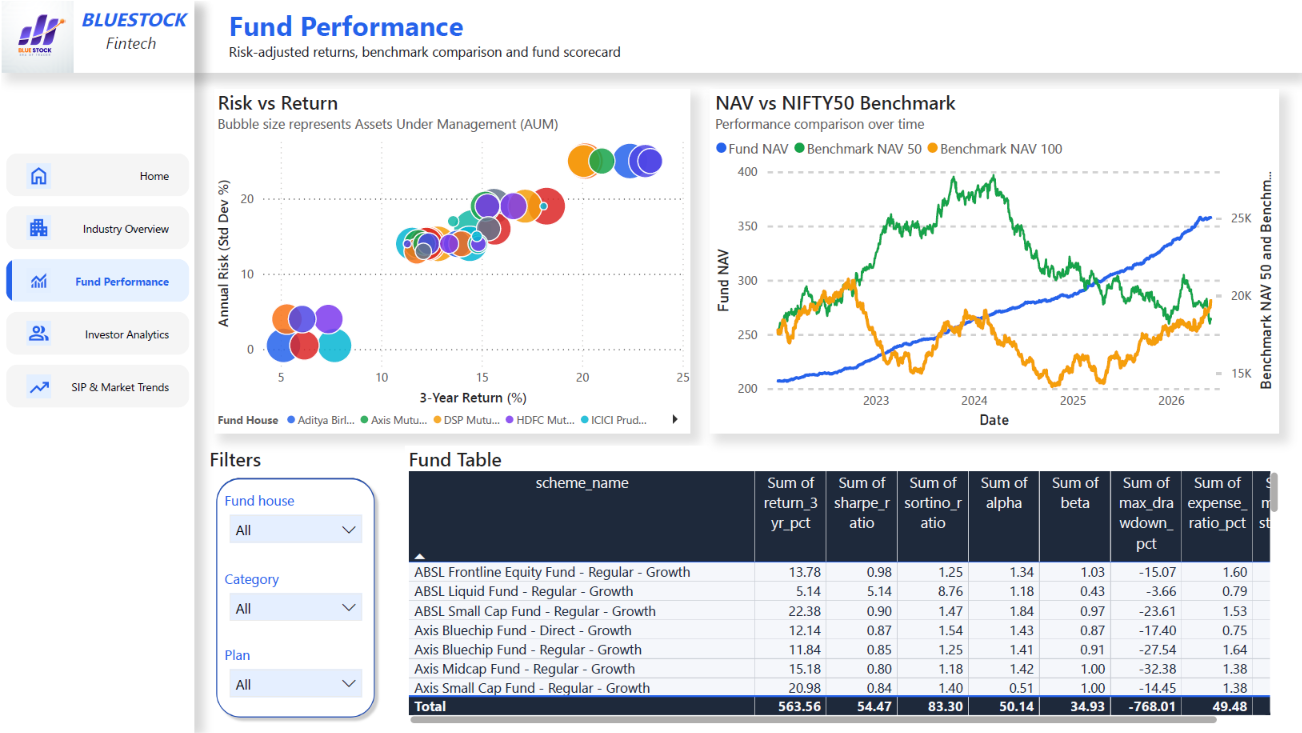

What the dashboard file says about the page in this screenshot:
{"tool":"powerbi","page":{"name":"Fund Performance","canvas":[1280,720],"ordinal":2},"visuals":[{"type":"shape","box":[0,0,1280,70],"z":0},{"type":"pageNavigator","box":[5,150,180,250],"z":0,"group":"g1"},{"type":"shape","box":[0,0,190,720],"z":1000},{"type":"image","box":[25,160,24,24],"z":1000,"group":"g1"},{"type":"shape","box":[0,0,190,70],"z":2000},{"type":"image","box":[25,263,24,24],"z":2000,"group":"g1"},{"type":"group","id":"g1","title":"Group 1","box":[5,150,180,250],"z":3000},{"type":"image","box":[25,367.5,23.8,23.8],"z":3000,"group":"g1"},{"type":"textbox","box":[190,0,1090,70],"z":4000},{"type":"image","box":[25,315,23.8,23.8],"z":4000,"group":"g1"},{"type":"image","box":[25,211.2,23.8,23.8],"z":5000,"group":"g1"},{"type":"shape","title":"Filters","box":[205,438.3,170,273.3],"z":5000},{"type":"slicer","title":"Fund house","fields":{"Values":["Dim_Fund.fund_house"]},"box":[215,483.3,150,66.7],"z":6000},{"type":"textbox","box":[48.8,0,141.2,70],"z":7000},{"type":"image","box":[0,0,71.2,70],"z":8000},{"type":"slicer","title":"Category","fields":{"Values":["Dim_Fund.category"]},"box":[215,560,150,66.7],"z":9000},{"type":"slicer","title":"Plan","fields":{"Values":["Dim_Fund.plan"]},"box":[215,635,150,66.7],"z":10000},{"type":"scatterChart","title":"Risk vs Return","fields":{"X":["Sum(Fact_Performance.return_3yr_pct)"],"Y":["Sum(Fact_Performance.std_dev_ann_pct)"],"Category":["Fact_Performance.scheme_name"],"Series":["Fact_Performance.fund_house"],"Size":["Sum(Fact_Performance.aum_crore)"]},"box":[210,86.7,468.3,338.3],"z":11000},{"type":"tableEx","title":"Fund Table","fields":{"Values":["Dim_Fund.scheme_name","Sum(Fact_Performance.return_3yr_pct)","Sum(Fact_Performance.sharpe_ratio)","Sum(Fact_Performance.sortino_ratio)","Sum(Fact_Performance.alpha)","Sum(Fact_Performance.beta)","Sum(Fact_Performance.max_drawdown_pct)","Sum(Fact_Performance.expense_ratio_pct)","Sum(Fact_Performance.morningstar_rating)"]},"box":[398.3,438.3,860,273.3],"z":12000},{"type":"lineChart","title":"NAV vs NIFTY50 Benchmark","fields":{"Category":["Dim_Date.Date"],"Y":["Measure_Table.Fund NAV"],"Y2":["Measure_Table.Benchmark NAV","Measure_Table.Benchmark NAV 100"]},"box":[698.3,86.7,560,338.3],"z":13000}]}

Visuals, with their boxes on the page's 1280x720 design canvas (x1, y1, x2, y2). These are canvas units, not pixel positions in the 1302x733 screenshot, which may show the page scaled, cropped or inside an application window:
shape: {"x1": 0, "y1": 0, "x2": 1280, "y2": 70}
pageNavigator: {"x1": 5, "y1": 150, "x2": 185, "y2": 400}
shape: {"x1": 0, "y1": 0, "x2": 190, "y2": 720}
image: {"x1": 25, "y1": 160, "x2": 49, "y2": 184}
shape: {"x1": 0, "y1": 0, "x2": 190, "y2": 70}
image: {"x1": 25, "y1": 263, "x2": 49, "y2": 287}
"Group 1" group: {"x1": 5, "y1": 150, "x2": 185, "y2": 400}
image: {"x1": 25, "y1": 368, "x2": 49, "y2": 391}
textbox: {"x1": 190, "y1": 0, "x2": 1280, "y2": 70}
image: {"x1": 25, "y1": 315, "x2": 49, "y2": 339}
image: {"x1": 25, "y1": 211, "x2": 49, "y2": 235}
"Filters" shape: {"x1": 205, "y1": 438, "x2": 375, "y2": 712}
"Fund house" slicer: {"x1": 215, "y1": 483, "x2": 365, "y2": 550}
textbox: {"x1": 49, "y1": 0, "x2": 190, "y2": 70}
image: {"x1": 0, "y1": 0, "x2": 71, "y2": 70}
"Category" slicer: {"x1": 215, "y1": 560, "x2": 365, "y2": 627}
"Plan" slicer: {"x1": 215, "y1": 635, "x2": 365, "y2": 702}
"Risk vs Return" scatterChart: {"x1": 210, "y1": 87, "x2": 678, "y2": 425}
"Fund Table" tableEx: {"x1": 398, "y1": 438, "x2": 1258, "y2": 712}
"NAV vs NIFTY50 Benchmark" lineChart: {"x1": 698, "y1": 87, "x2": 1258, "y2": 425}
